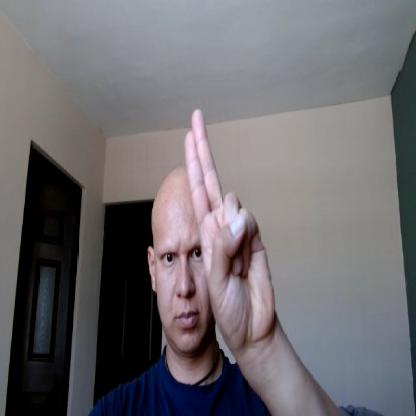U: (184, 107, 274, 342)
